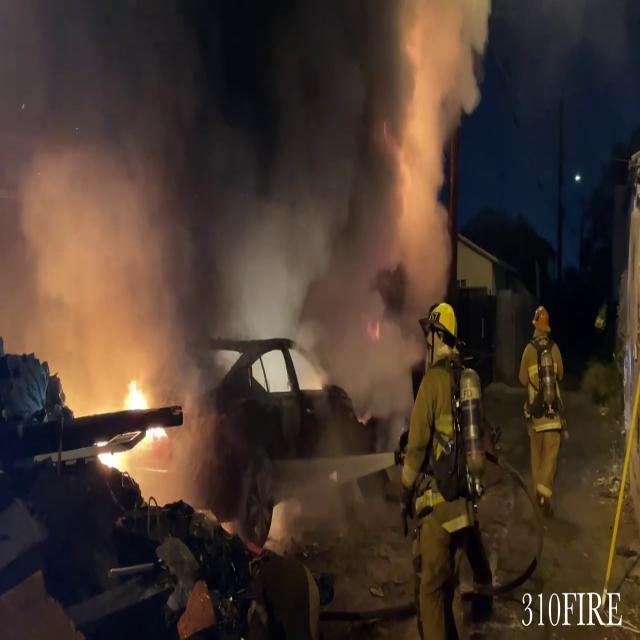Fire: (88, 372, 170, 480), (118, 374, 162, 418)
Smoke: (1, 0, 482, 386)
